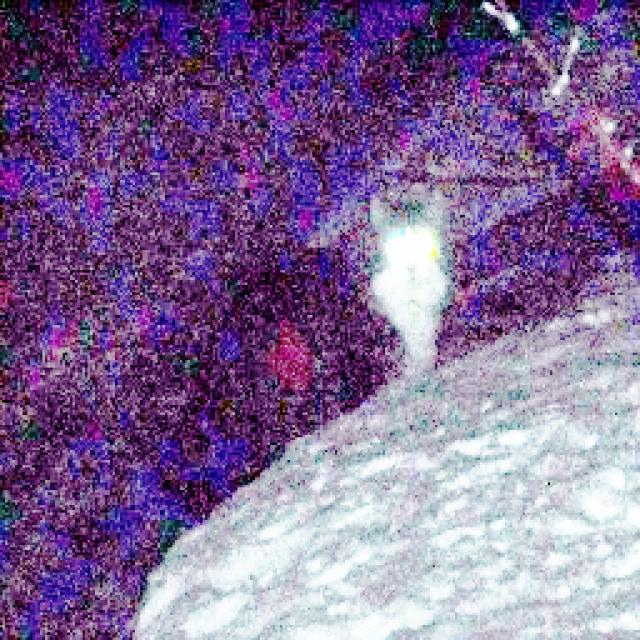cat: (348, 193, 456, 381)
